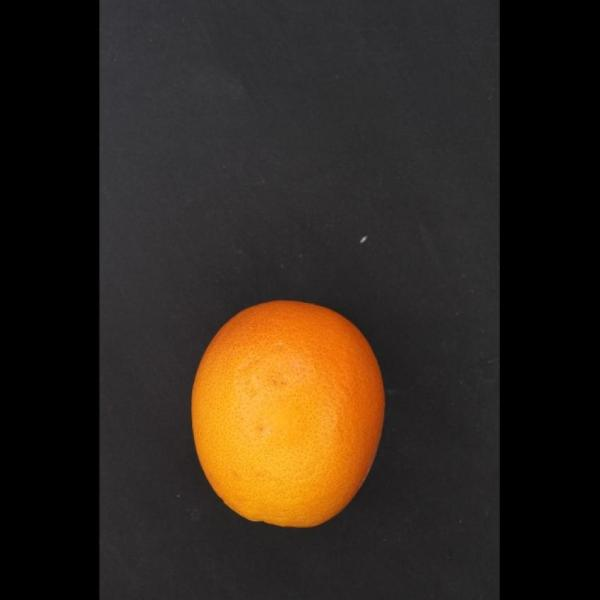Moho verde: (181, 282, 391, 537)
